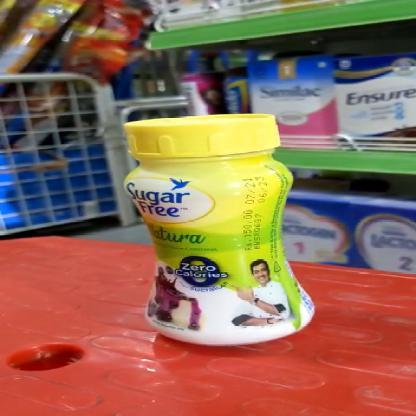SUGAR FREE NATURA_ POWDER_CONC_100G: (121, 112, 319, 346)
